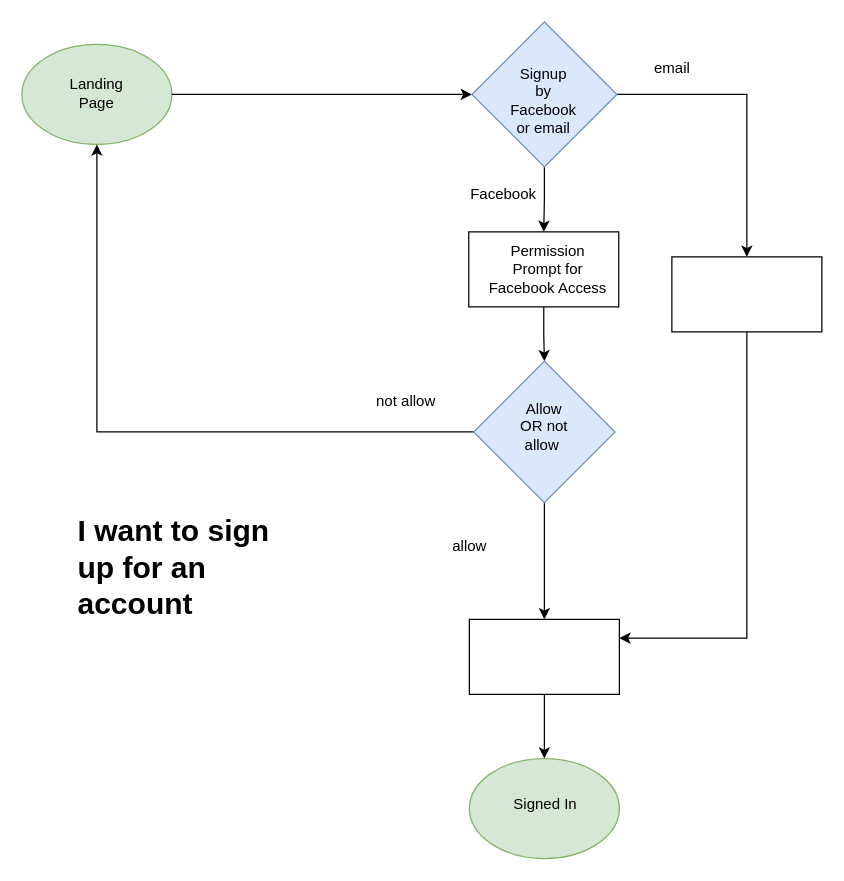
This 844x881 diagram has some shape labels left out. The box of each missing label's shape, as (x1, y1, x2, y2) in pixels:
Dancer Profile Info: (468, 618, 619, 694)
Enter Email and Password for Sign up: (671, 256, 822, 332)
